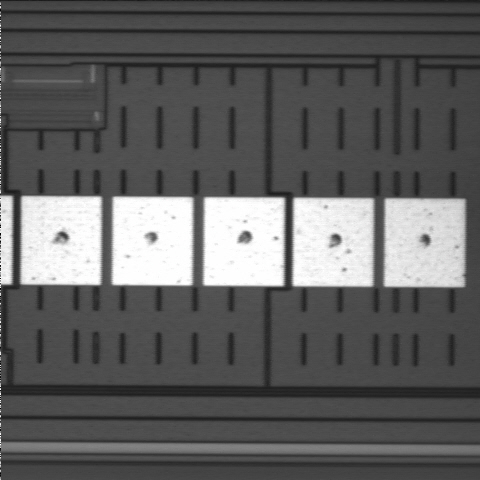pad: (203, 197, 285, 286), (21, 196, 102, 285), (112, 197, 193, 286), (293, 198, 374, 287), (384, 199, 465, 287)
